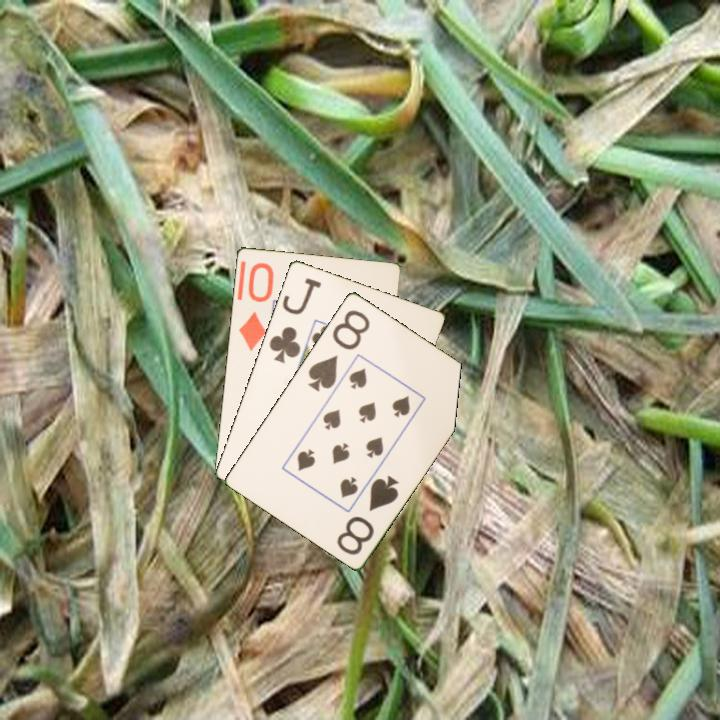10d: (234, 258, 276, 354)
8s: (304, 306, 373, 394), (333, 471, 402, 558)
Jc: (265, 274, 324, 365)
